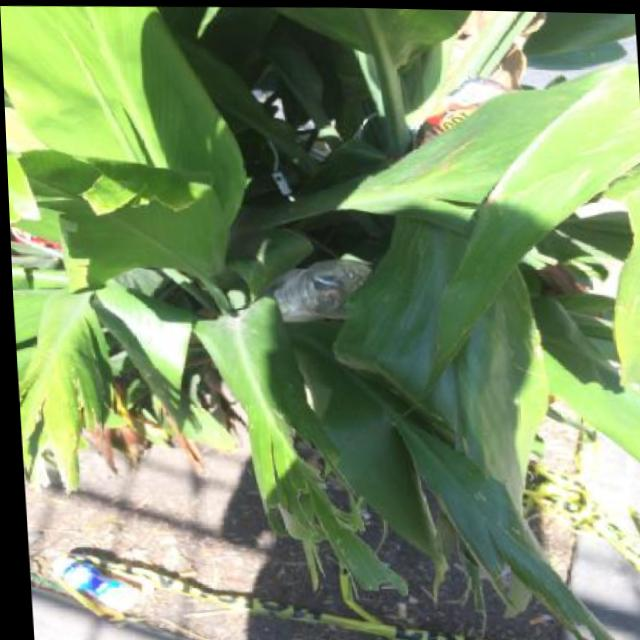plastic: (259, 257, 377, 329), (50, 554, 142, 613)
